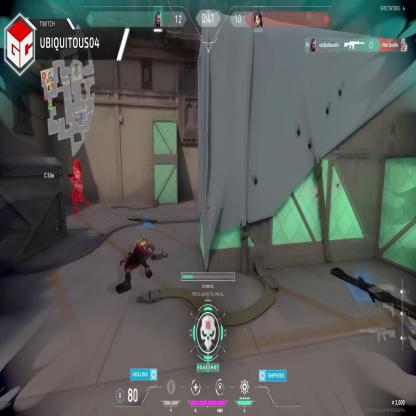enemy: (71, 158, 89, 216)
enemy_head: (74, 160, 78, 170)
